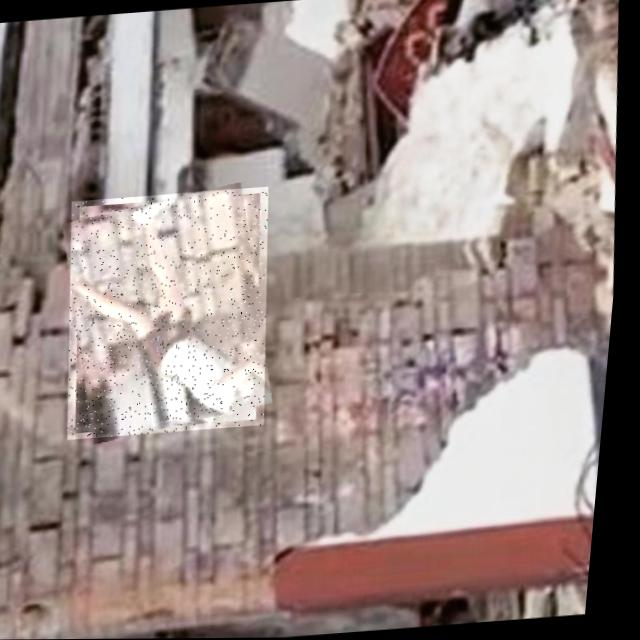Person in Rubble: (58, 185, 288, 438)
